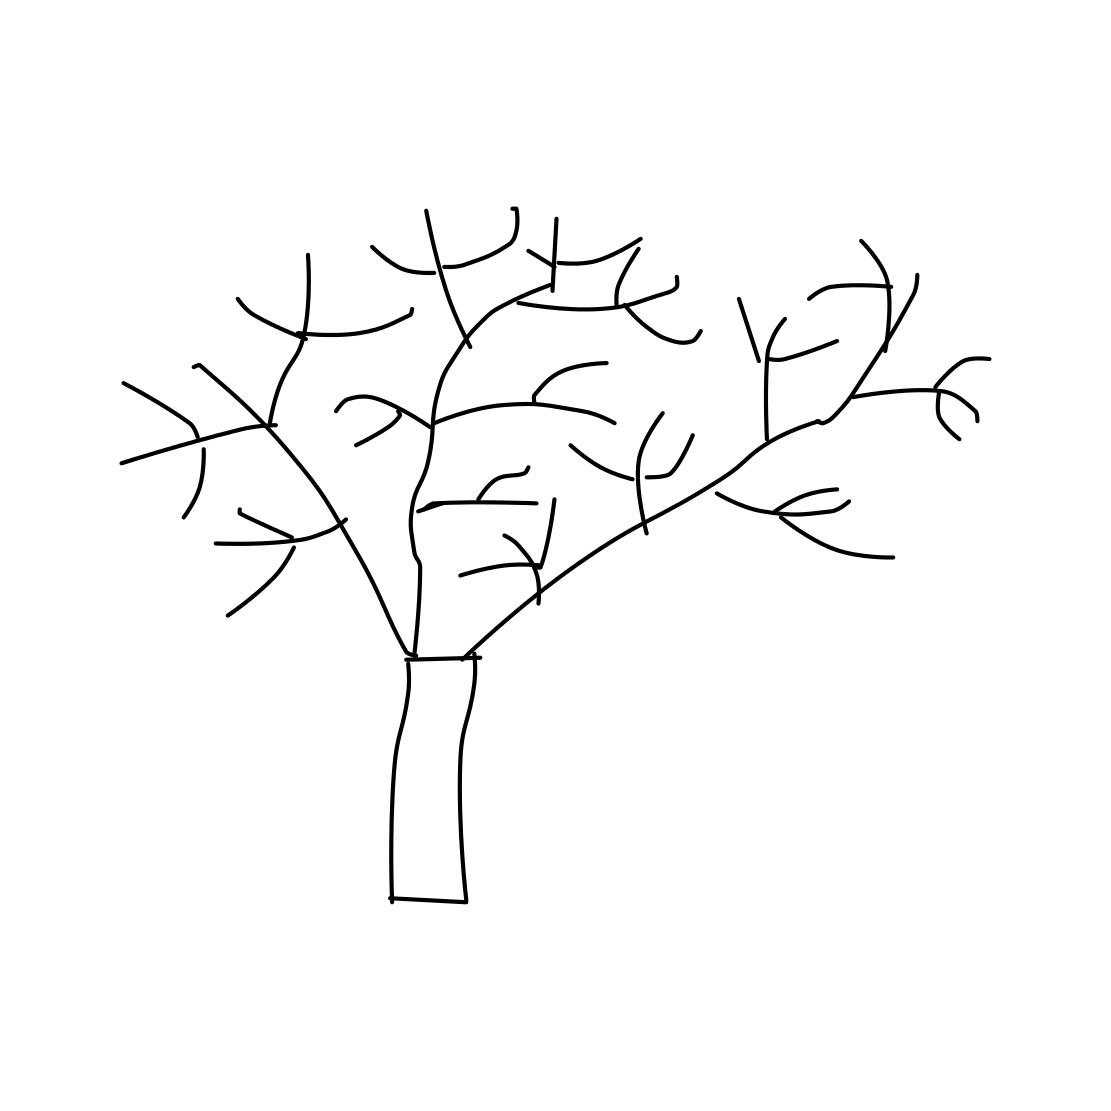Tree: (110, 150, 993, 916)
